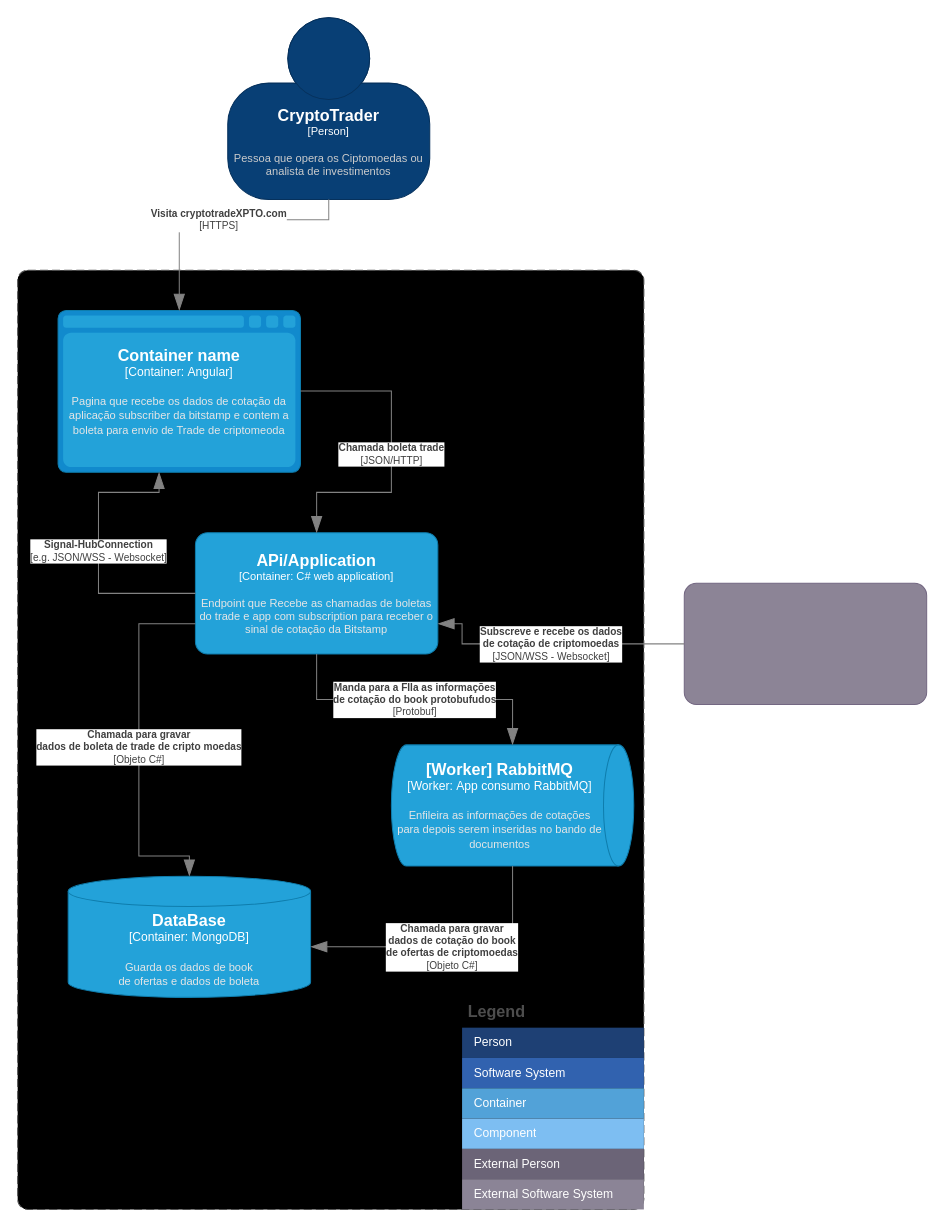
This 944x1227 diagram has some shape labels left out. The shapes that lost their labels are listed below. From the top down, each one's box as (x1, y1, x2, y2) in pixels, then its label:
(683, 582, 927, 704): BitStamp [Software System] Pu/Sub com cotações de criptomoedas
(17, 269, 644, 1209): [Container] OrderBookContainer [OrderBookSystem]
